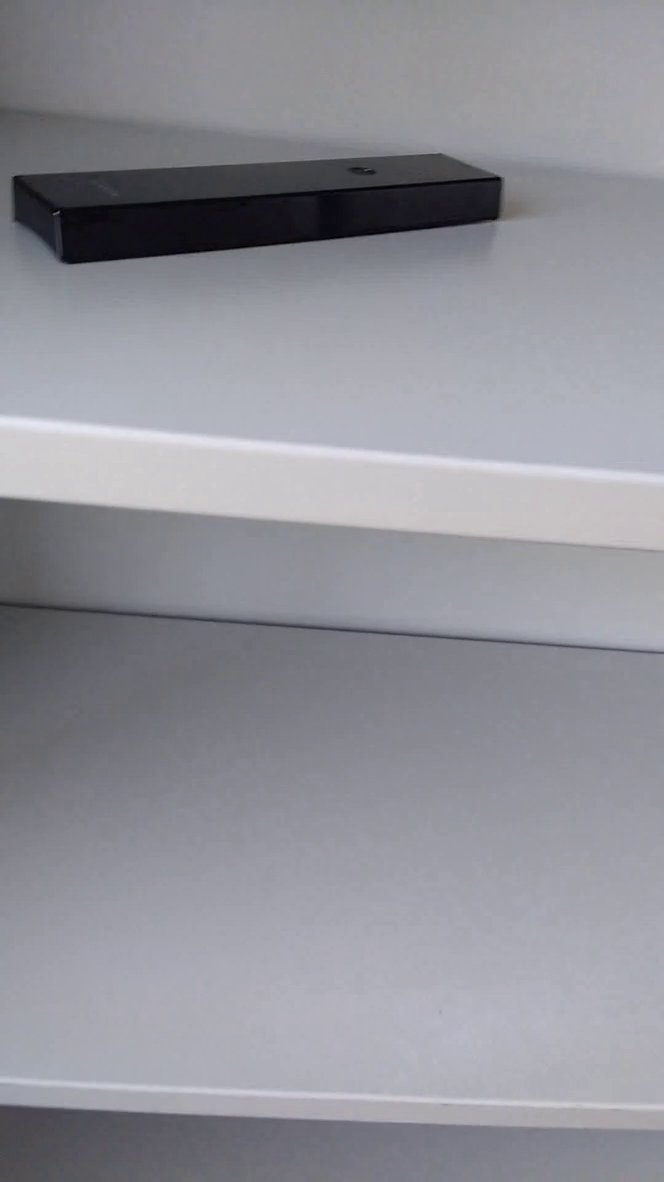remote: (5, 125, 523, 273)
